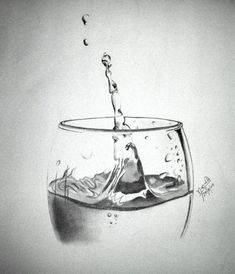glass of water: (64, 124, 183, 239)
